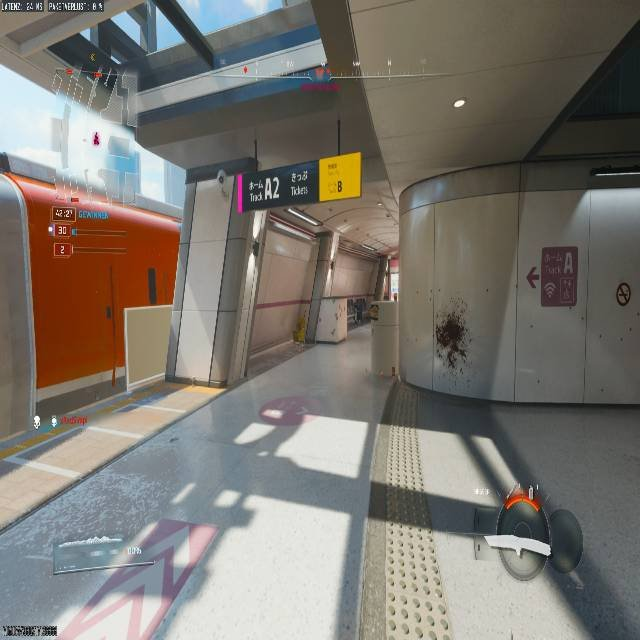player: (436, 310, 468, 370)
